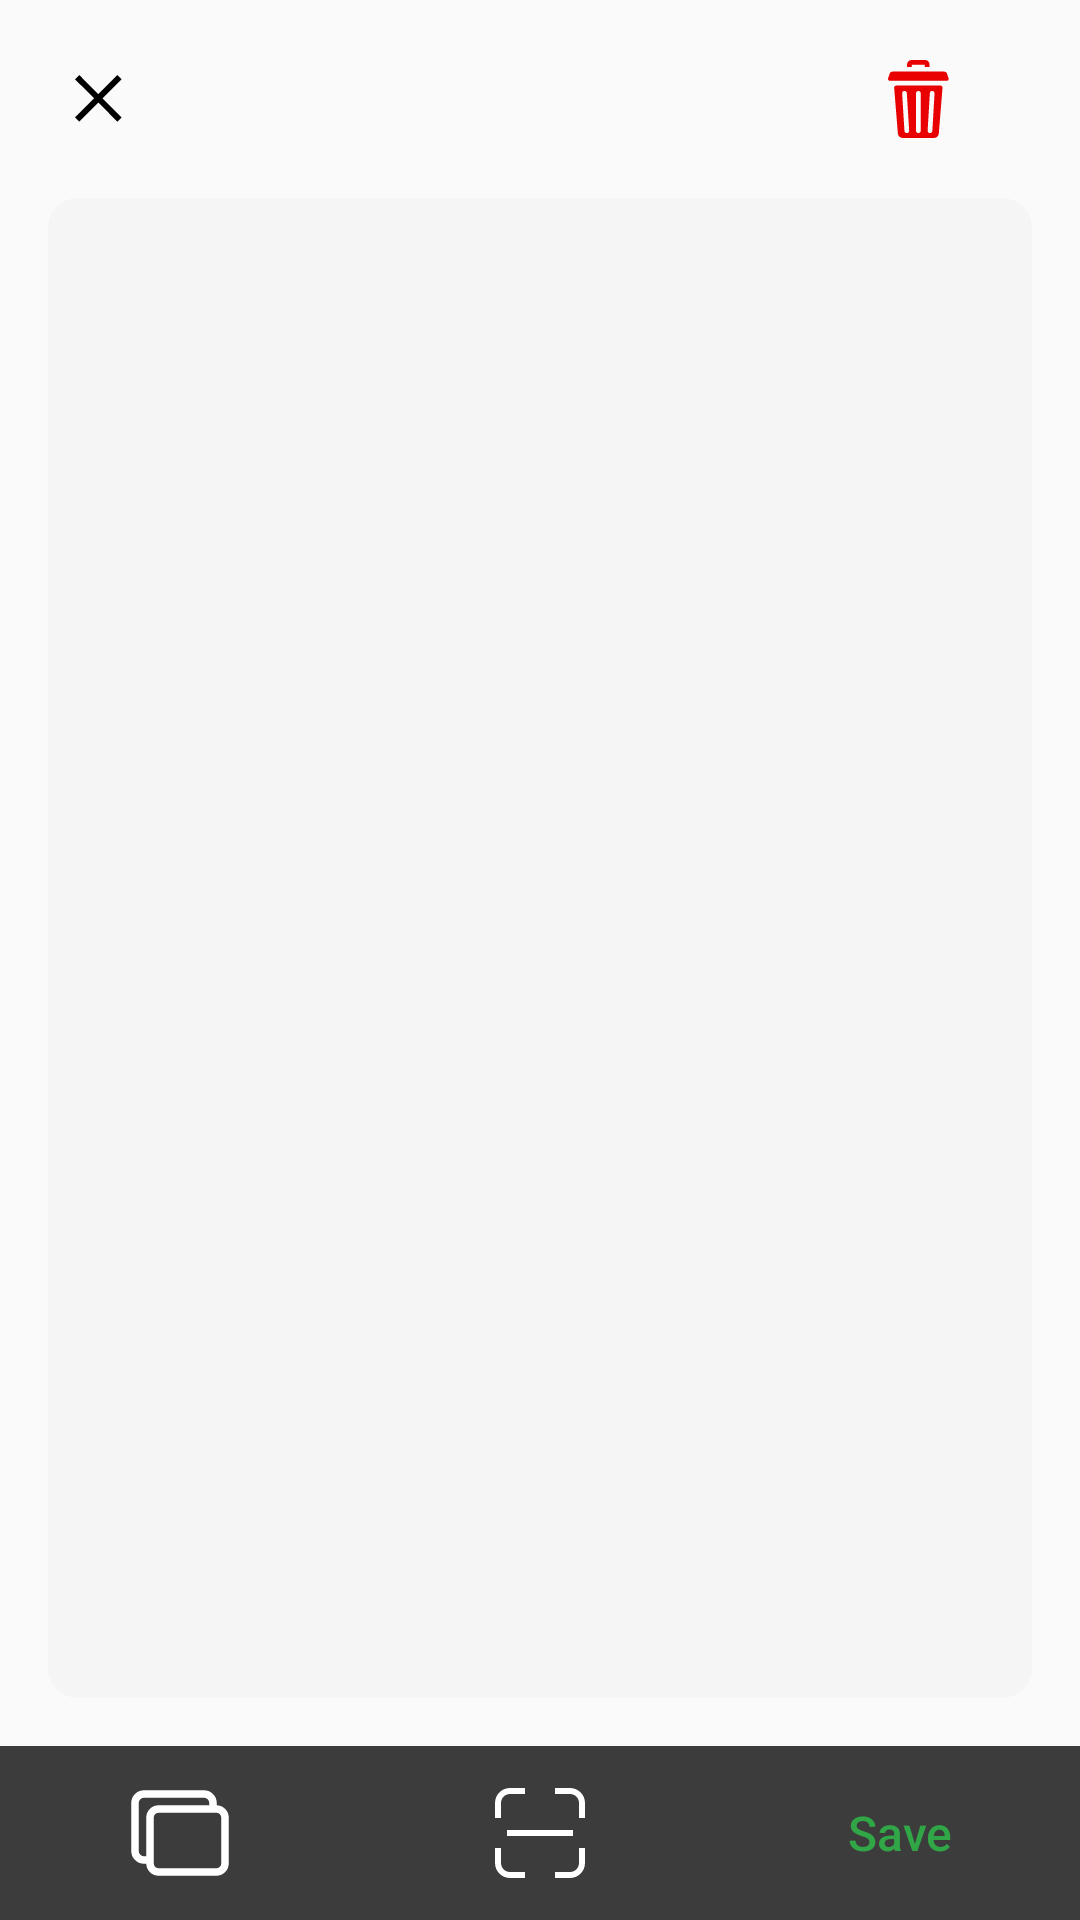

Screen size 1080*1920. Icon name, then its box in pixels as (x1, y1, x2, y2):
close: (75, 75, 122, 122)
gallery import: (131, 1790, 229, 1876)
scan: (495, 1788, 585, 1878)
